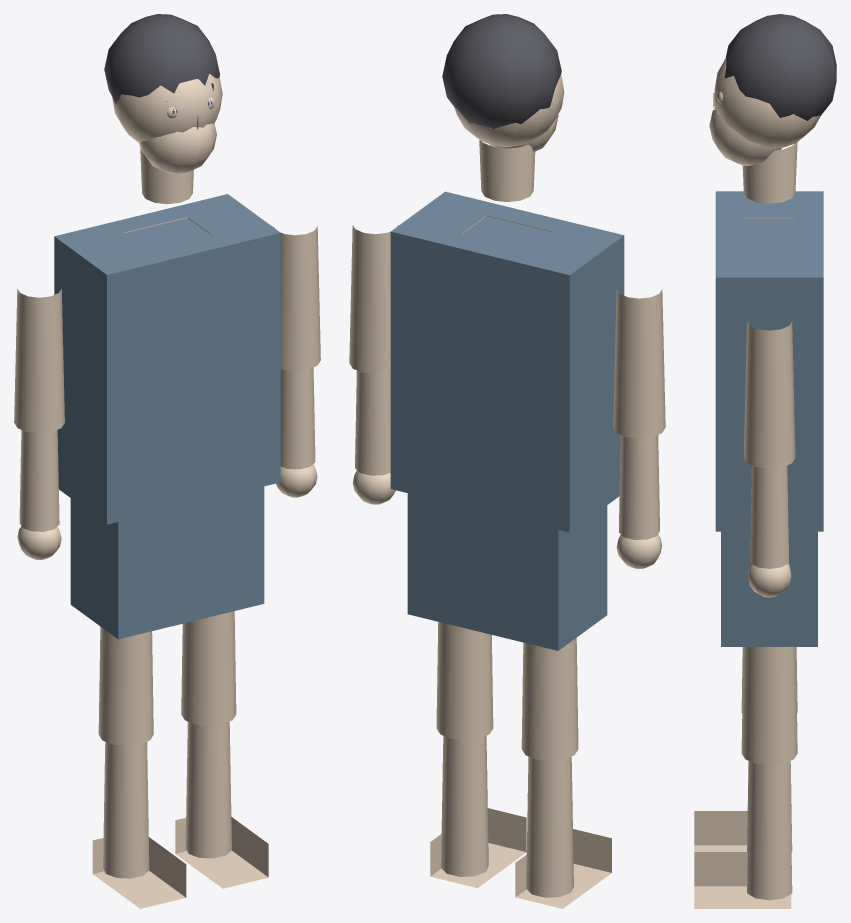
File: body.glb
3 renders of one model, left to right at view 1: azimuth 30°, elevation 25°; view 2: azimuth 150°, elevation 25°; view 3: azimuth 270°, elevation 25°, orthographic. The views are drawn at different scales.
Parts seen in each view (by area): view 1: Cloth, Skin, Hair; view 2: Cloth, Skin, Hair; view 3: Skin, Cloth, Hair.
Part boxes in pixels (<box>): Cloth: <box>54,194,280,639</box>; Skin: <box>14,74,320,908</box>; Hair: <box>104,14,219,104</box>; Cloth: <box>390,191,624,650</box>; Skin: <box>349,75,665,908</box>; Hair: <box>442,14,561,129</box>; Skin: <box>694,58,820,908</box>; Cloth: <box>715,191,823,646</box>; Hair: <box>724,14,836,120</box>.
Size of the model in its own units: 0.6538 by 1.76 by 0.2646.
